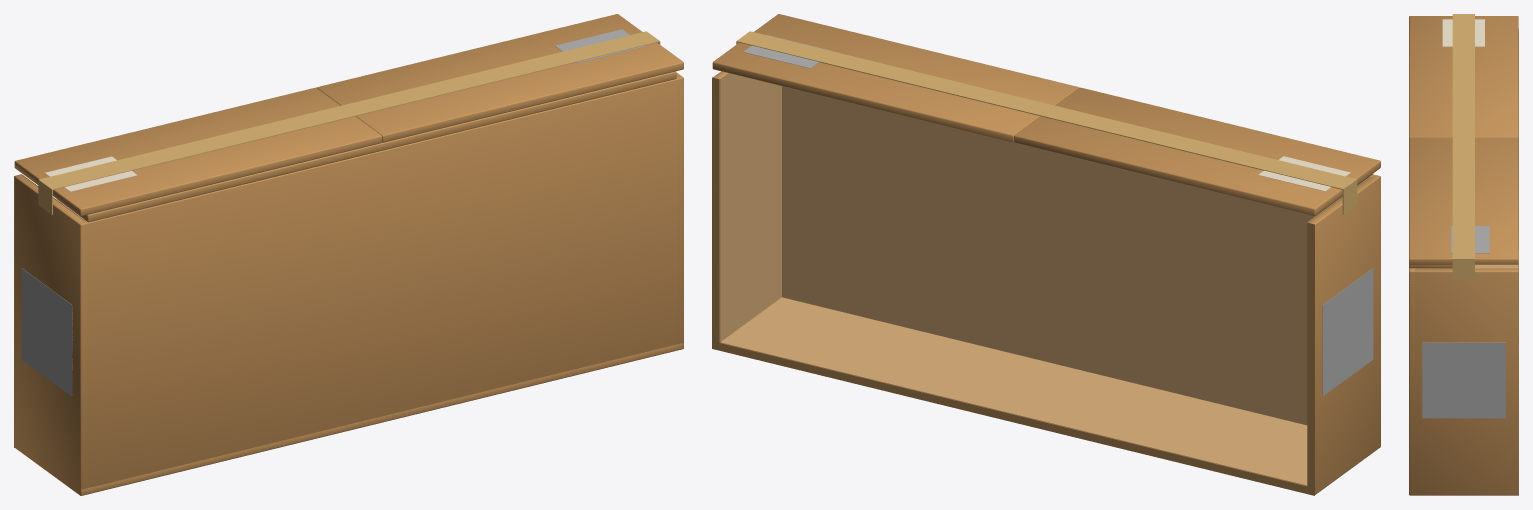
The picture shows the model from 3 angles, left to right: view 1: azimuth 30°, elevation 25°; view 2: azimuth 150°, elevation 25°; view 3: azimuth 270°, elevation 25°; orthographic projection. The views are drawn at different scales.
Parts seen in each view (by area): view 1: box_7x3, FlapR, FlapL, Tape, FlapB; view 2: box_7x3, FlapR, FlapL, Tape; view 3: box_7x3, FlapL, FlapR, Tape, FlapB.
Boxes of the visible parts, x1,y1,x2,y2 form: box_7x3: (14,73,683,495); FlapR: (14,87,381,216); FlapL: (316,14,683,142); Tape: (38,31,660,214); FlapB: (57,71,676,222); box_7x3: (712,71,1380,495); FlapR: (1014,87,1380,215); FlapL: (712,14,1079,142); Tape: (736,31,1357,214); box_7x3: (1409,28,1518,495); FlapL: (1409,137,1518,264); FlapR: (1409,16,1518,137); Tape: (1452,14,1474,279); FlapB: (1409,264,1452,268).
Size of the model in its own units: 1.81 by 0.8185 by 0.3428.
